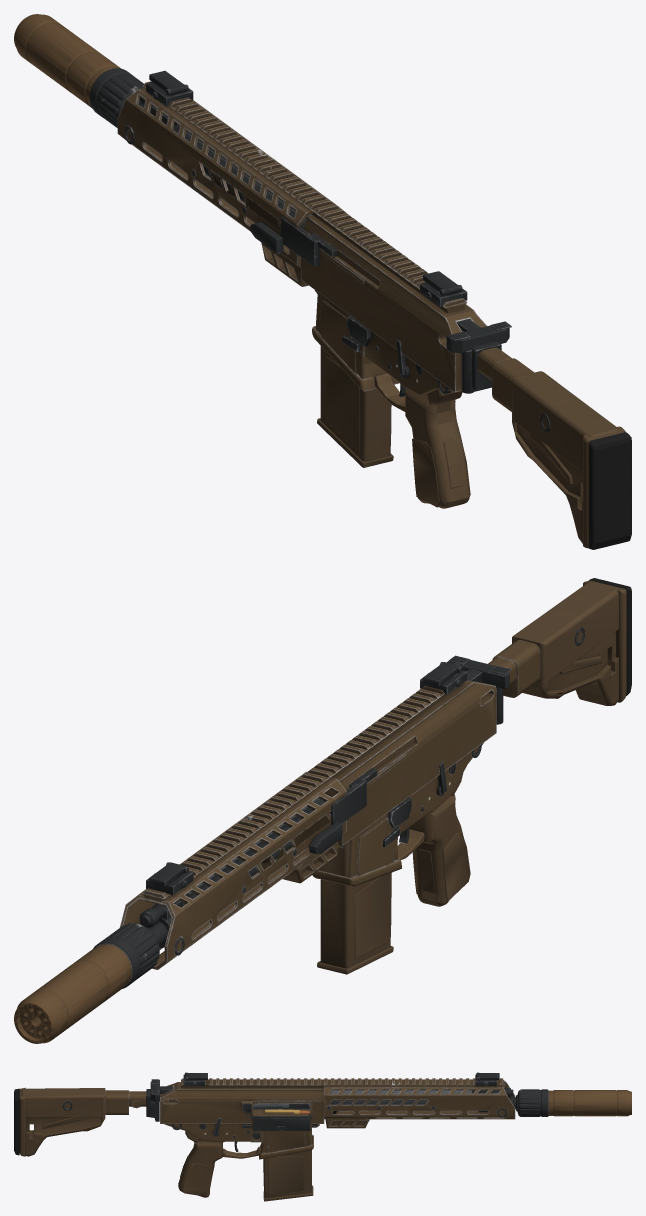
3 renders of one model, top to bottom at view 1: azimuth 30°, elevation 25°; view 2: azimuth 150°, elevation 25°; view 3: azimuth 270°, elevation 25°, orthographic. The views are drawn at different scales.
Parts seen in each view (by area): view 1: body, magazine, chargingHandle; view 2: body, magazine, chargingHandle; view 3: body, magazine, bolt, chargingHandle.
Part boxes in pixels (x1,y1,x2,y2): body: (14, 14, 631, 549); magazine: (317, 346, 393, 467); chargingHandle: (446, 319, 511, 353); body: (14, 578, 631, 1043); magazine: (317, 841, 393, 974); chargingHandle: (447, 655, 511, 689); body: (14, 1072, 631, 1197); magazine: (262, 1109, 313, 1201); bolt: (253, 1103, 309, 1109); chargingHandle: (150, 1079, 173, 1101).
Size of the model in its own units: 0.0575 by 0.2008 by 0.9155.
Materials: 3 (3 with a texture image).
